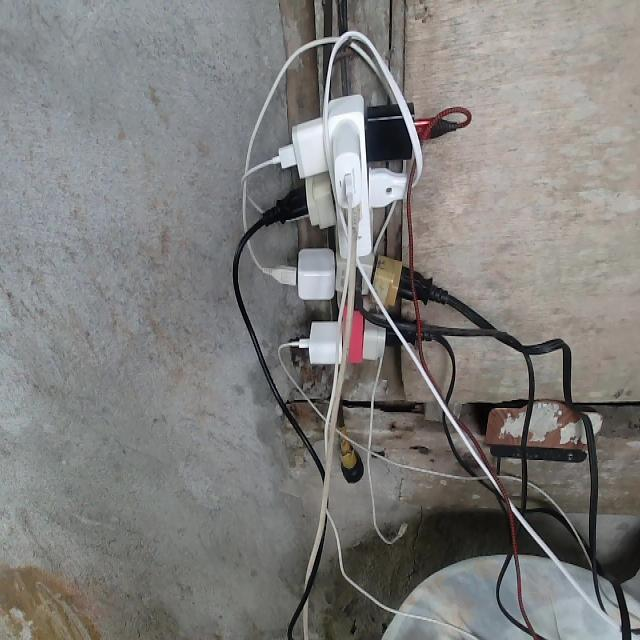-: (265, 92, 437, 365)
